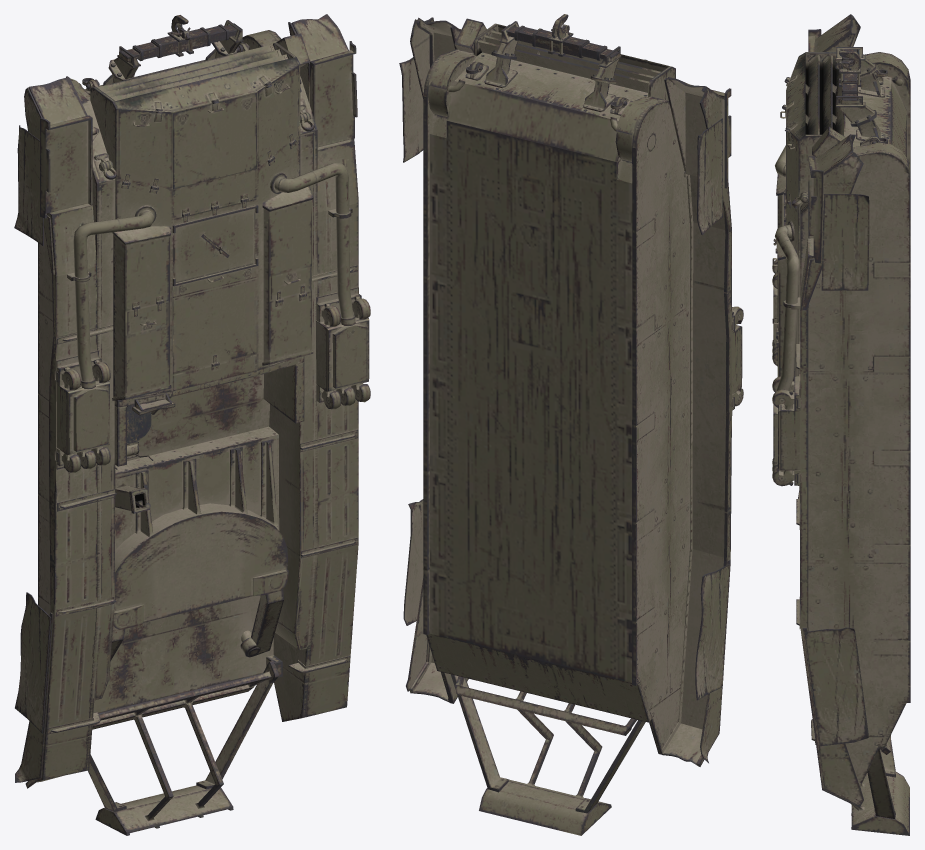
File: Hull.glb
3 renders of one model, left to right at view 1: azimuth 30°, elevation 25°; view 2: azimuth 150°, elevation 25°; view 3: azimuth 270°, elevation 25°, orthographic. The views are drawn at different scales.
Parts seen in each view (by area): view 1: set_0_group_0; view 2: set_0_group_0; view 3: set_0_group_0.
Boxes of the visible parts, x1=… form: set_0_group_0: x1=14, y1=14, x2=370, y2=835; set_0_group_0: x1=399, y1=14, x2=743, y2=835; set_0_group_0: x1=772, y1=14, x2=910, y2=835.
Size of the model in its own units: 2.83 by 6.92 by 1.14.
1 material, 1 textured.
